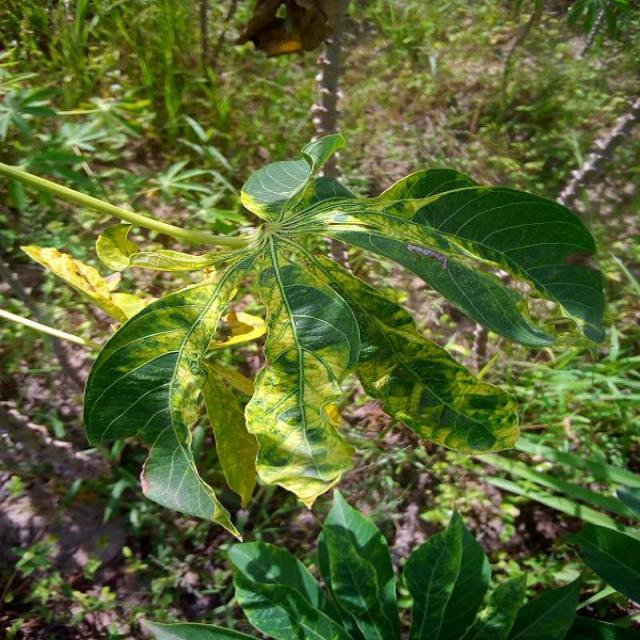cassava leaf: (22, 131, 605, 541)
